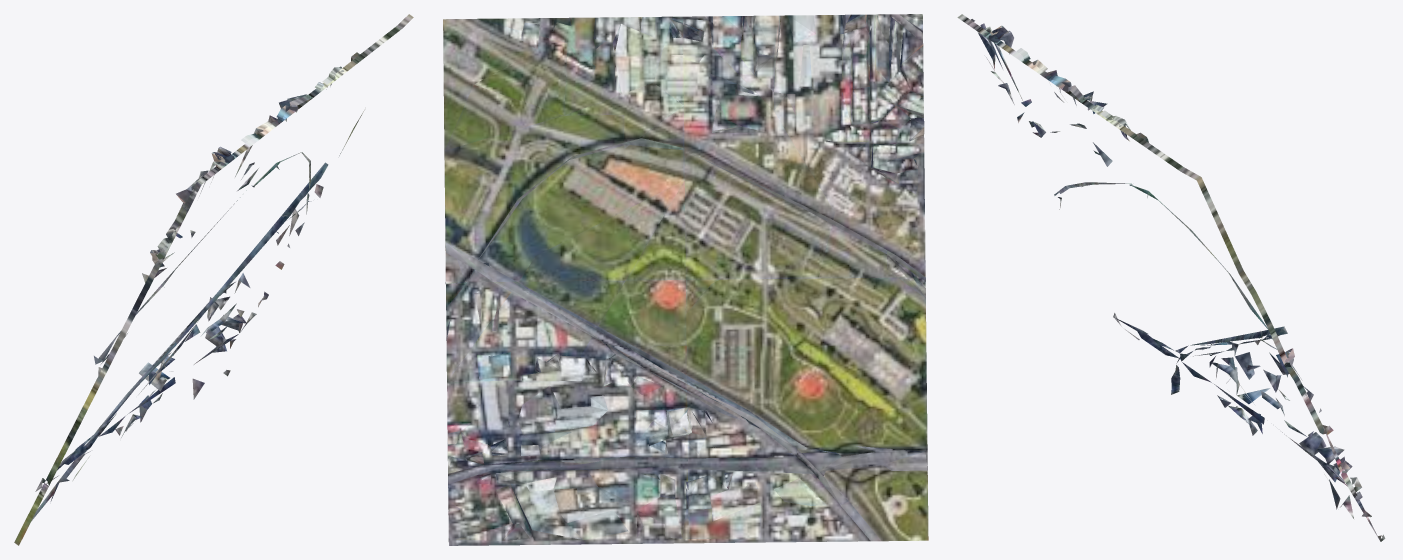
3 views of the same model, side by side, from view 1: azimuth 30°, elevation 25°; view 2: azimuth 150°, elevation 25°; view 3: azimuth 270°, elevation 25° (orthographic). The views are drawn at different scales.
Bounding box in the file's own units: 1220 × 1124 × 1050.
1 material, 1 textured.
